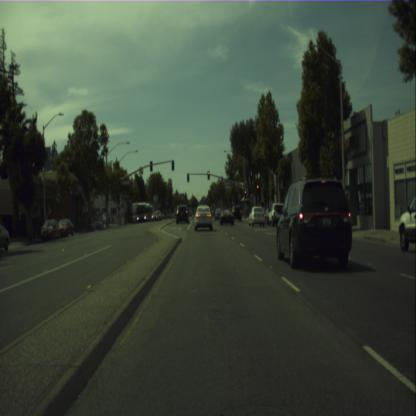Red: (186, 173, 190, 182), (256, 183, 259, 194), (208, 170, 210, 180), (244, 190, 246, 198)
